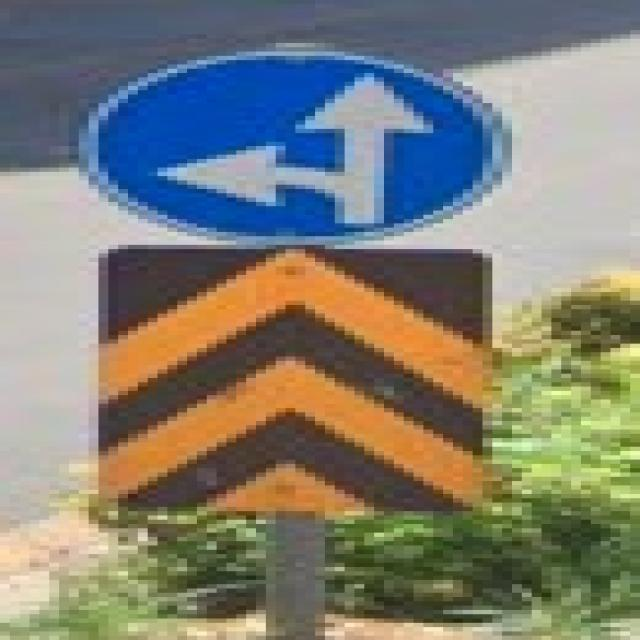Straight or Left: (80, 53, 513, 242)
